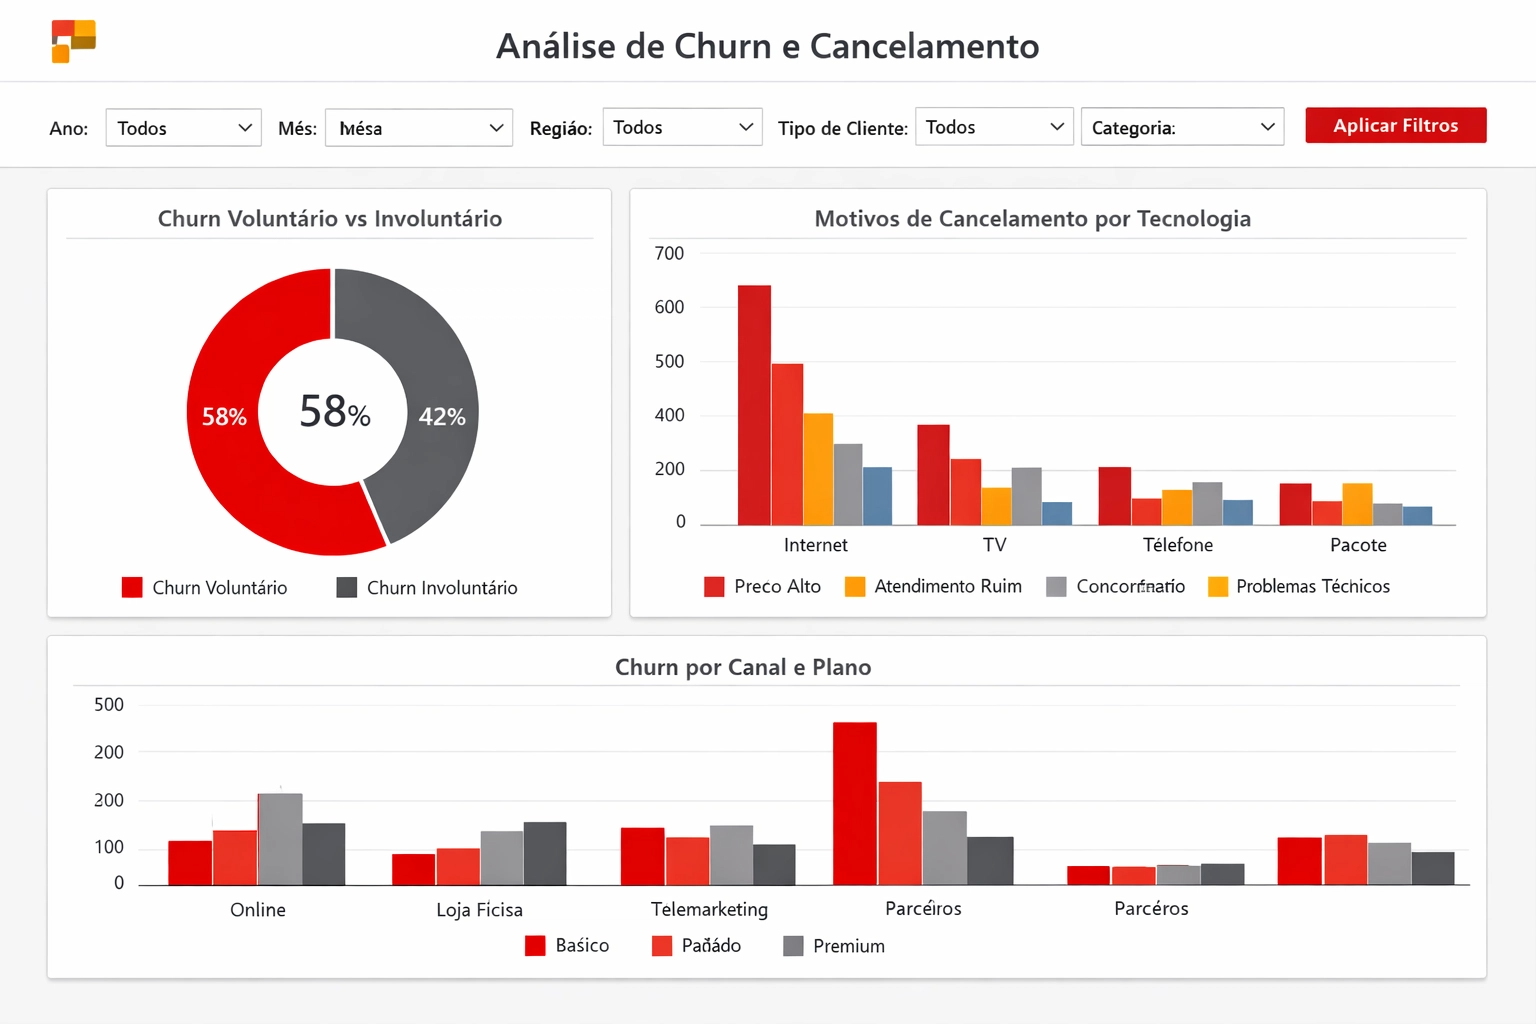

The dashboard page shown, as its layout file describes it:
{"tool":"powerbi","page":{"name":"Churn e Cancelamento","canvas":[1280,720],"ordinal":2},"visuals":[{"type":"slicer","fields":{"Values":["Dim_Tempo.Ano"]},"box":[14.1,96.4,167.5,75.1],"z":0},{"type":"slicer","fields":{"Values":["Dim_Tempo.Mes_Nome"]},"box":[198.8,96.4,167.5,75.1],"z":1000},{"type":"slicer","fields":{"Values":["Dim_Local.UF"]},"box":[380.3,96.4,167.5,75.1],"z":2000},{"type":"slicer","fields":{"Values":["Dim_Local.CIDADE"]},"box":[558.3,96.1,167.5,75.3],"z":3000},{"type":"slicer","fields":{"Values":["Dim_Canal.CANAL"]},"box":[735.6,96.4,167.5,75.1],"z":4000},{"type":"slicer","fields":{"Values":["Dim_Produto.TECNOLOGIA"]},"box":[919.3,96.1,167.5,75.3],"z":5000},{"type":"slicer","fields":{"Values":["Dim_Produto.PLANO"]},"box":[1097.2,96.4,167.5,75.1],"z":6000},{"type":"textbox","box":[14.3,0,1250.4,84.4],"z":7000},{"type":"pageNavigator","box":[885.5,16.9,364.9,50.6],"z":16000}]}

Visuals, with their boxes on the page's 1280x720 design canvas (x1, y1, x2, y2). These are canvas units, not pixel positions in the 1536x1024 screenshot, which may show the page scaled, cropped or inside an application window:
slicer - Dim_Tempo.Ano: box(14, 96, 182, 172)
slicer - Dim_Tempo.Mes_Nome: box(199, 96, 366, 172)
slicer - Dim_Local.UF: box(380, 96, 548, 172)
slicer - Dim_Local.CIDADE: box(558, 96, 726, 171)
slicer - Dim_Canal.CANAL: box(736, 96, 903, 172)
slicer - Dim_Produto.TECNOLOGIA: box(919, 96, 1087, 171)
slicer - Dim_Produto.PLANO: box(1097, 96, 1265, 172)
textbox: box(14, 0, 1265, 84)
pageNavigator: box(886, 17, 1250, 68)
